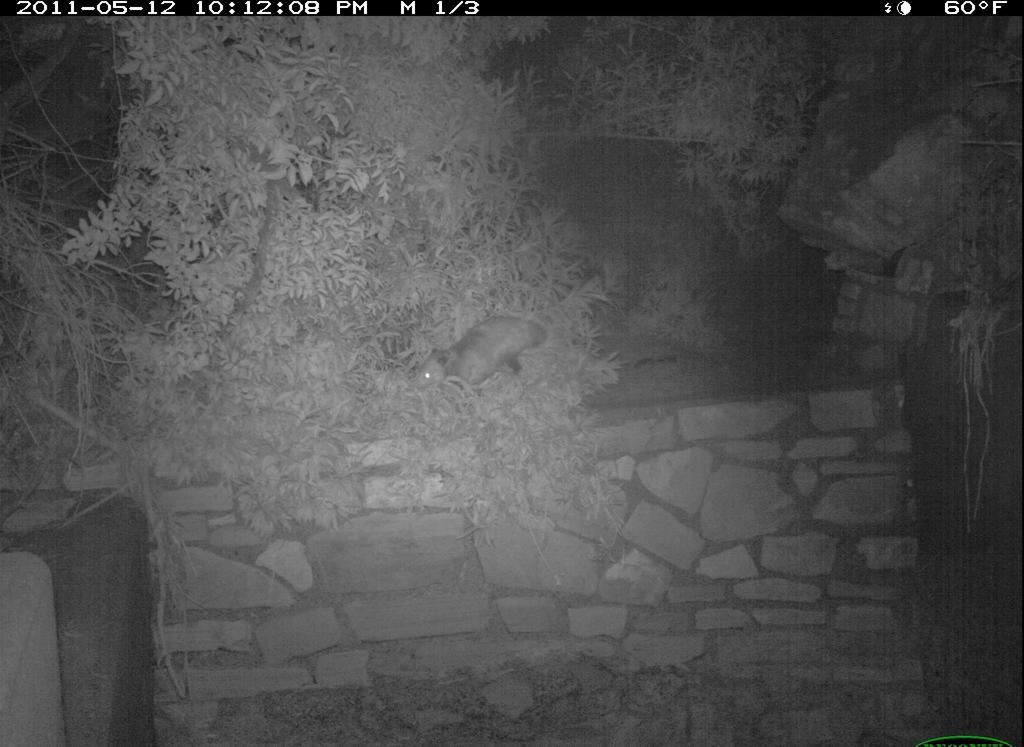opossum: (409, 308, 560, 411)
